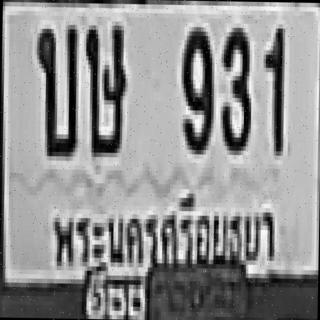A26: (33, 20, 77, 156)
A39: (82, 21, 124, 153)
N01: (262, 24, 283, 151)
N03: (220, 23, 250, 150)
N09: (180, 22, 212, 150)
P03: (40, 176, 282, 280)
